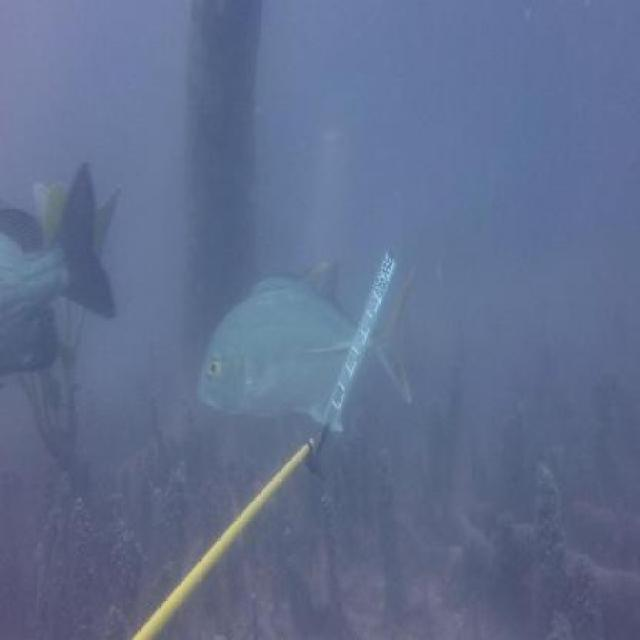Caranx: (194, 254, 423, 432)
acanthopagrus_palmaris: (0, 160, 117, 382), (244, 270, 316, 296)
